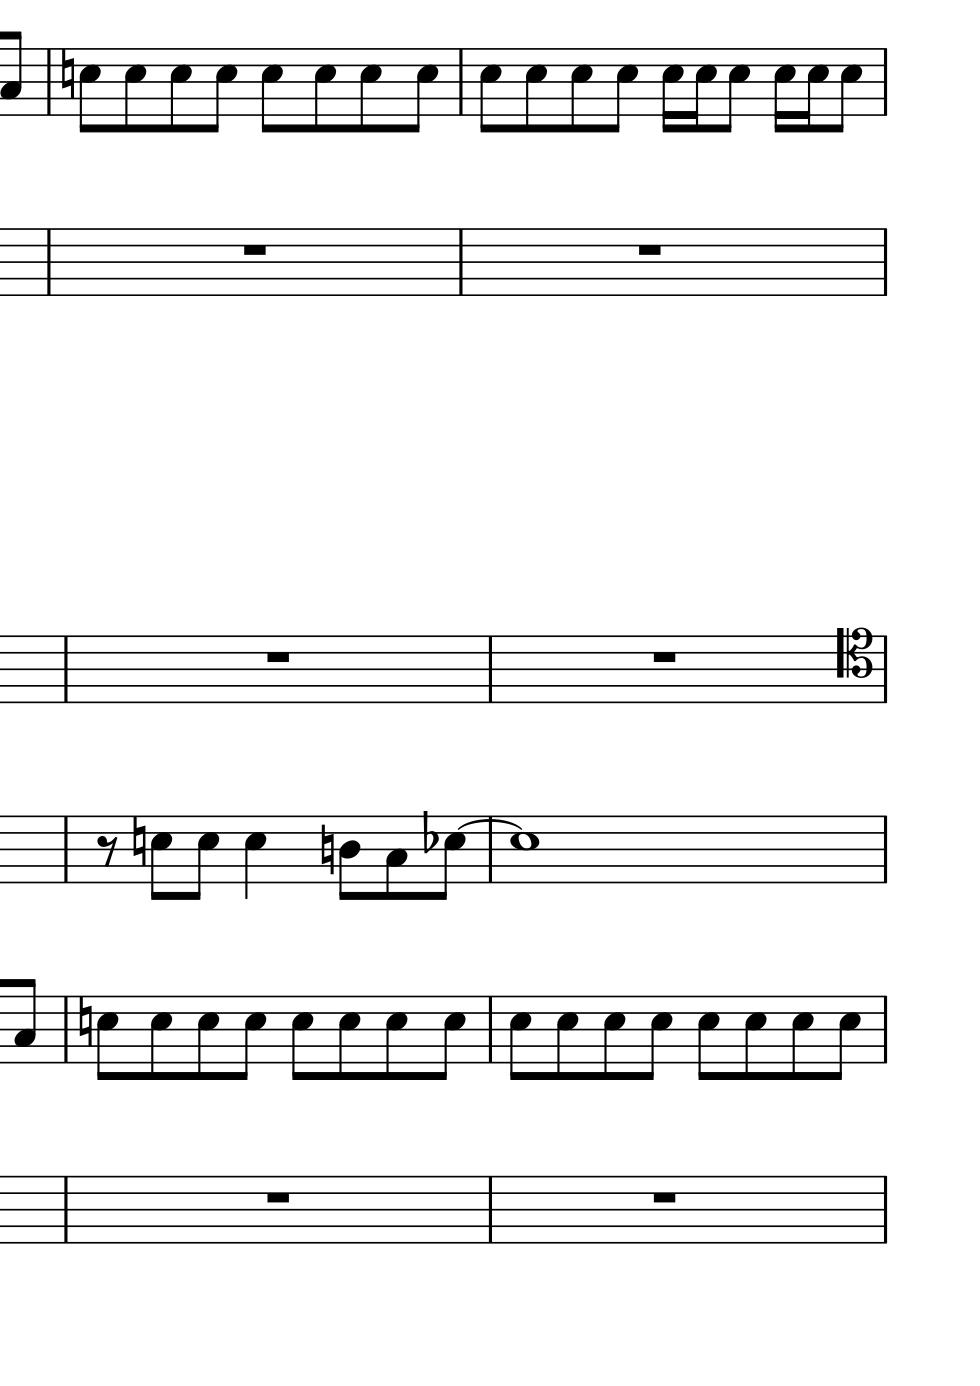16_5: (801, 46, 828, 133), (689, 47, 716, 134), (659, 46, 684, 134), (771, 46, 795, 134)
1_5: (509, 814, 540, 885)
4_5: (242, 814, 267, 902)
8_3: (12, 976, 37, 1066), (383, 814, 408, 902), (1, 29, 22, 118)
8_4: (337, 815, 361, 903)
8_5: (406, 46, 438, 135), (607, 46, 638, 135), (188, 814, 220, 902), (237, 994, 267, 1083), (643, 994, 673, 1083), (832, 993, 862, 1082), (207, 46, 238, 134), (833, 46, 863, 134), (435, 814, 465, 903), (435, 994, 465, 1082), (722, 46, 750, 135), (122, 46, 147, 135), (259, 46, 284, 135), (312, 46, 337, 135), (523, 46, 548, 135), (147, 814, 173, 903), (288, 994, 314, 1083), (383, 994, 408, 1083), (507, 994, 532, 1083), (695, 994, 720, 1083), (554, 995, 579, 1083), (168, 46, 192, 135), (357, 46, 382, 135), (477, 46, 502, 135), (568, 46, 593, 135), (94, 994, 119, 1083), (148, 994, 173, 1083), (195, 994, 220, 1083), (789, 994, 813, 1083), (336, 994, 361, 1082), (601, 995, 626, 1083), (77, 46, 101, 136), (743, 995, 767, 1083)
Flat: (420, 809, 438, 856)
Natural: (129, 815, 146, 870), (318, 822, 335, 876), (77, 995, 93, 1050), (59, 48, 75, 102)
Rests1: (239, 240, 270, 259), (262, 647, 293, 666), (649, 647, 680, 666), (648, 1188, 680, 1206), (634, 239, 664, 258), (262, 1188, 293, 1206)
Rests8: (97, 834, 119, 869)
Single_barline: (875, 1175, 894, 1244), (451, 228, 469, 297), (876, 48, 894, 116), (876, 228, 894, 296), (452, 49, 470, 116), (480, 817, 498, 883), (876, 635, 893, 703), (876, 815, 893, 883), (482, 1176, 498, 1244), (40, 48, 57, 115), (57, 996, 74, 1063), (876, 996, 893, 1063), (482, 637, 498, 702), (482, 997, 498, 1062), (40, 228, 56, 295), (57, 815, 73, 882), (57, 1176, 73, 1243), (58, 636, 74, 702)
Slur: (458, 820, 524, 831)
Tensor_Cclef: (833, 626, 875, 705)
